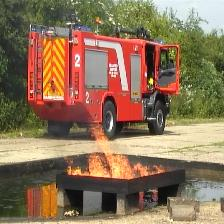fire: (65, 118, 165, 180)
